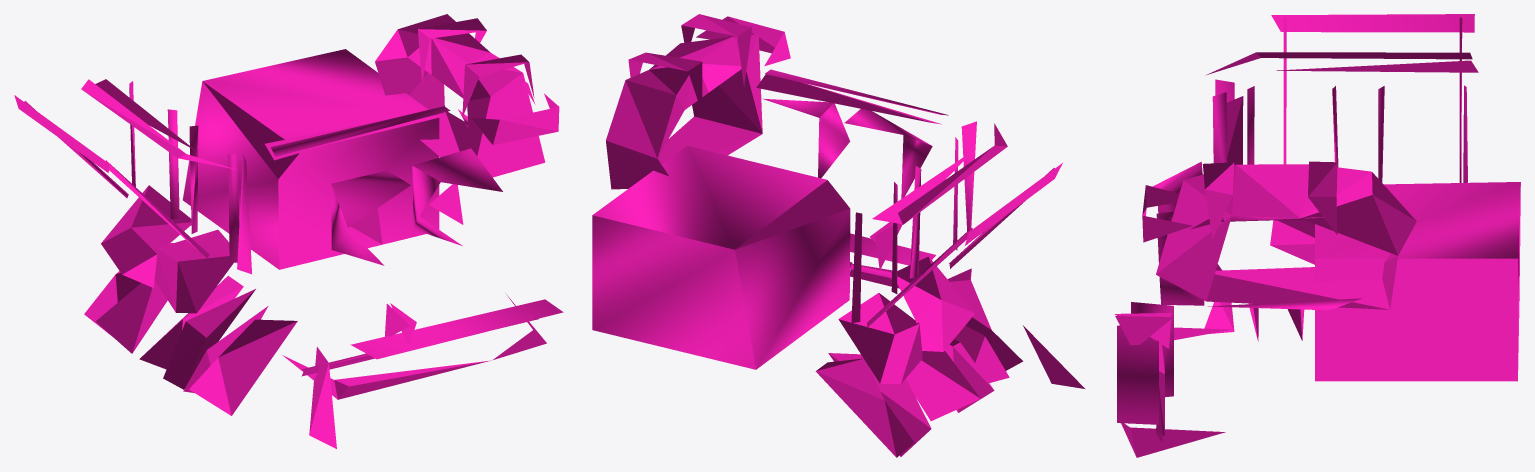
Rendered from backdrop_top_e_lod4.glb.
3 views of the same model, side by side, from view 1: azimuth 30°, elevation 25°; view 2: azimuth 150°, elevation 25°; view 3: azimuth 270°, elevation 25° (orthographic). The views are drawn at different scales.
Size of the model in its own units: 61.86 by 45.4 by 50.38.
